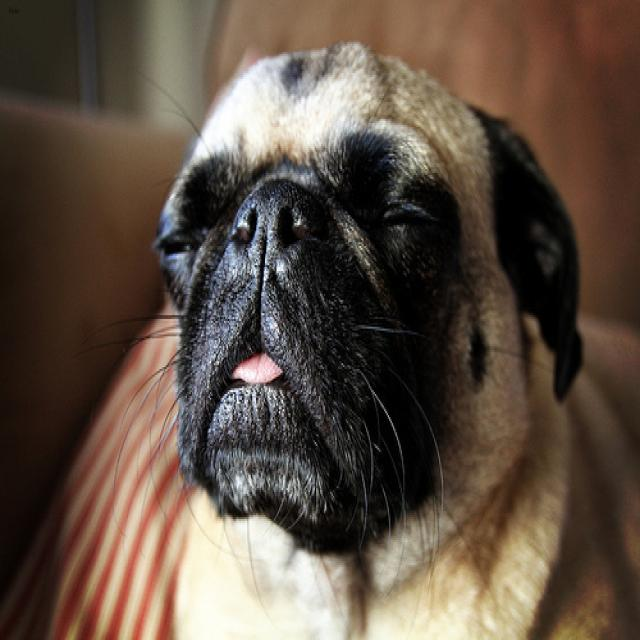dog-pug: (95, 33, 637, 636)
